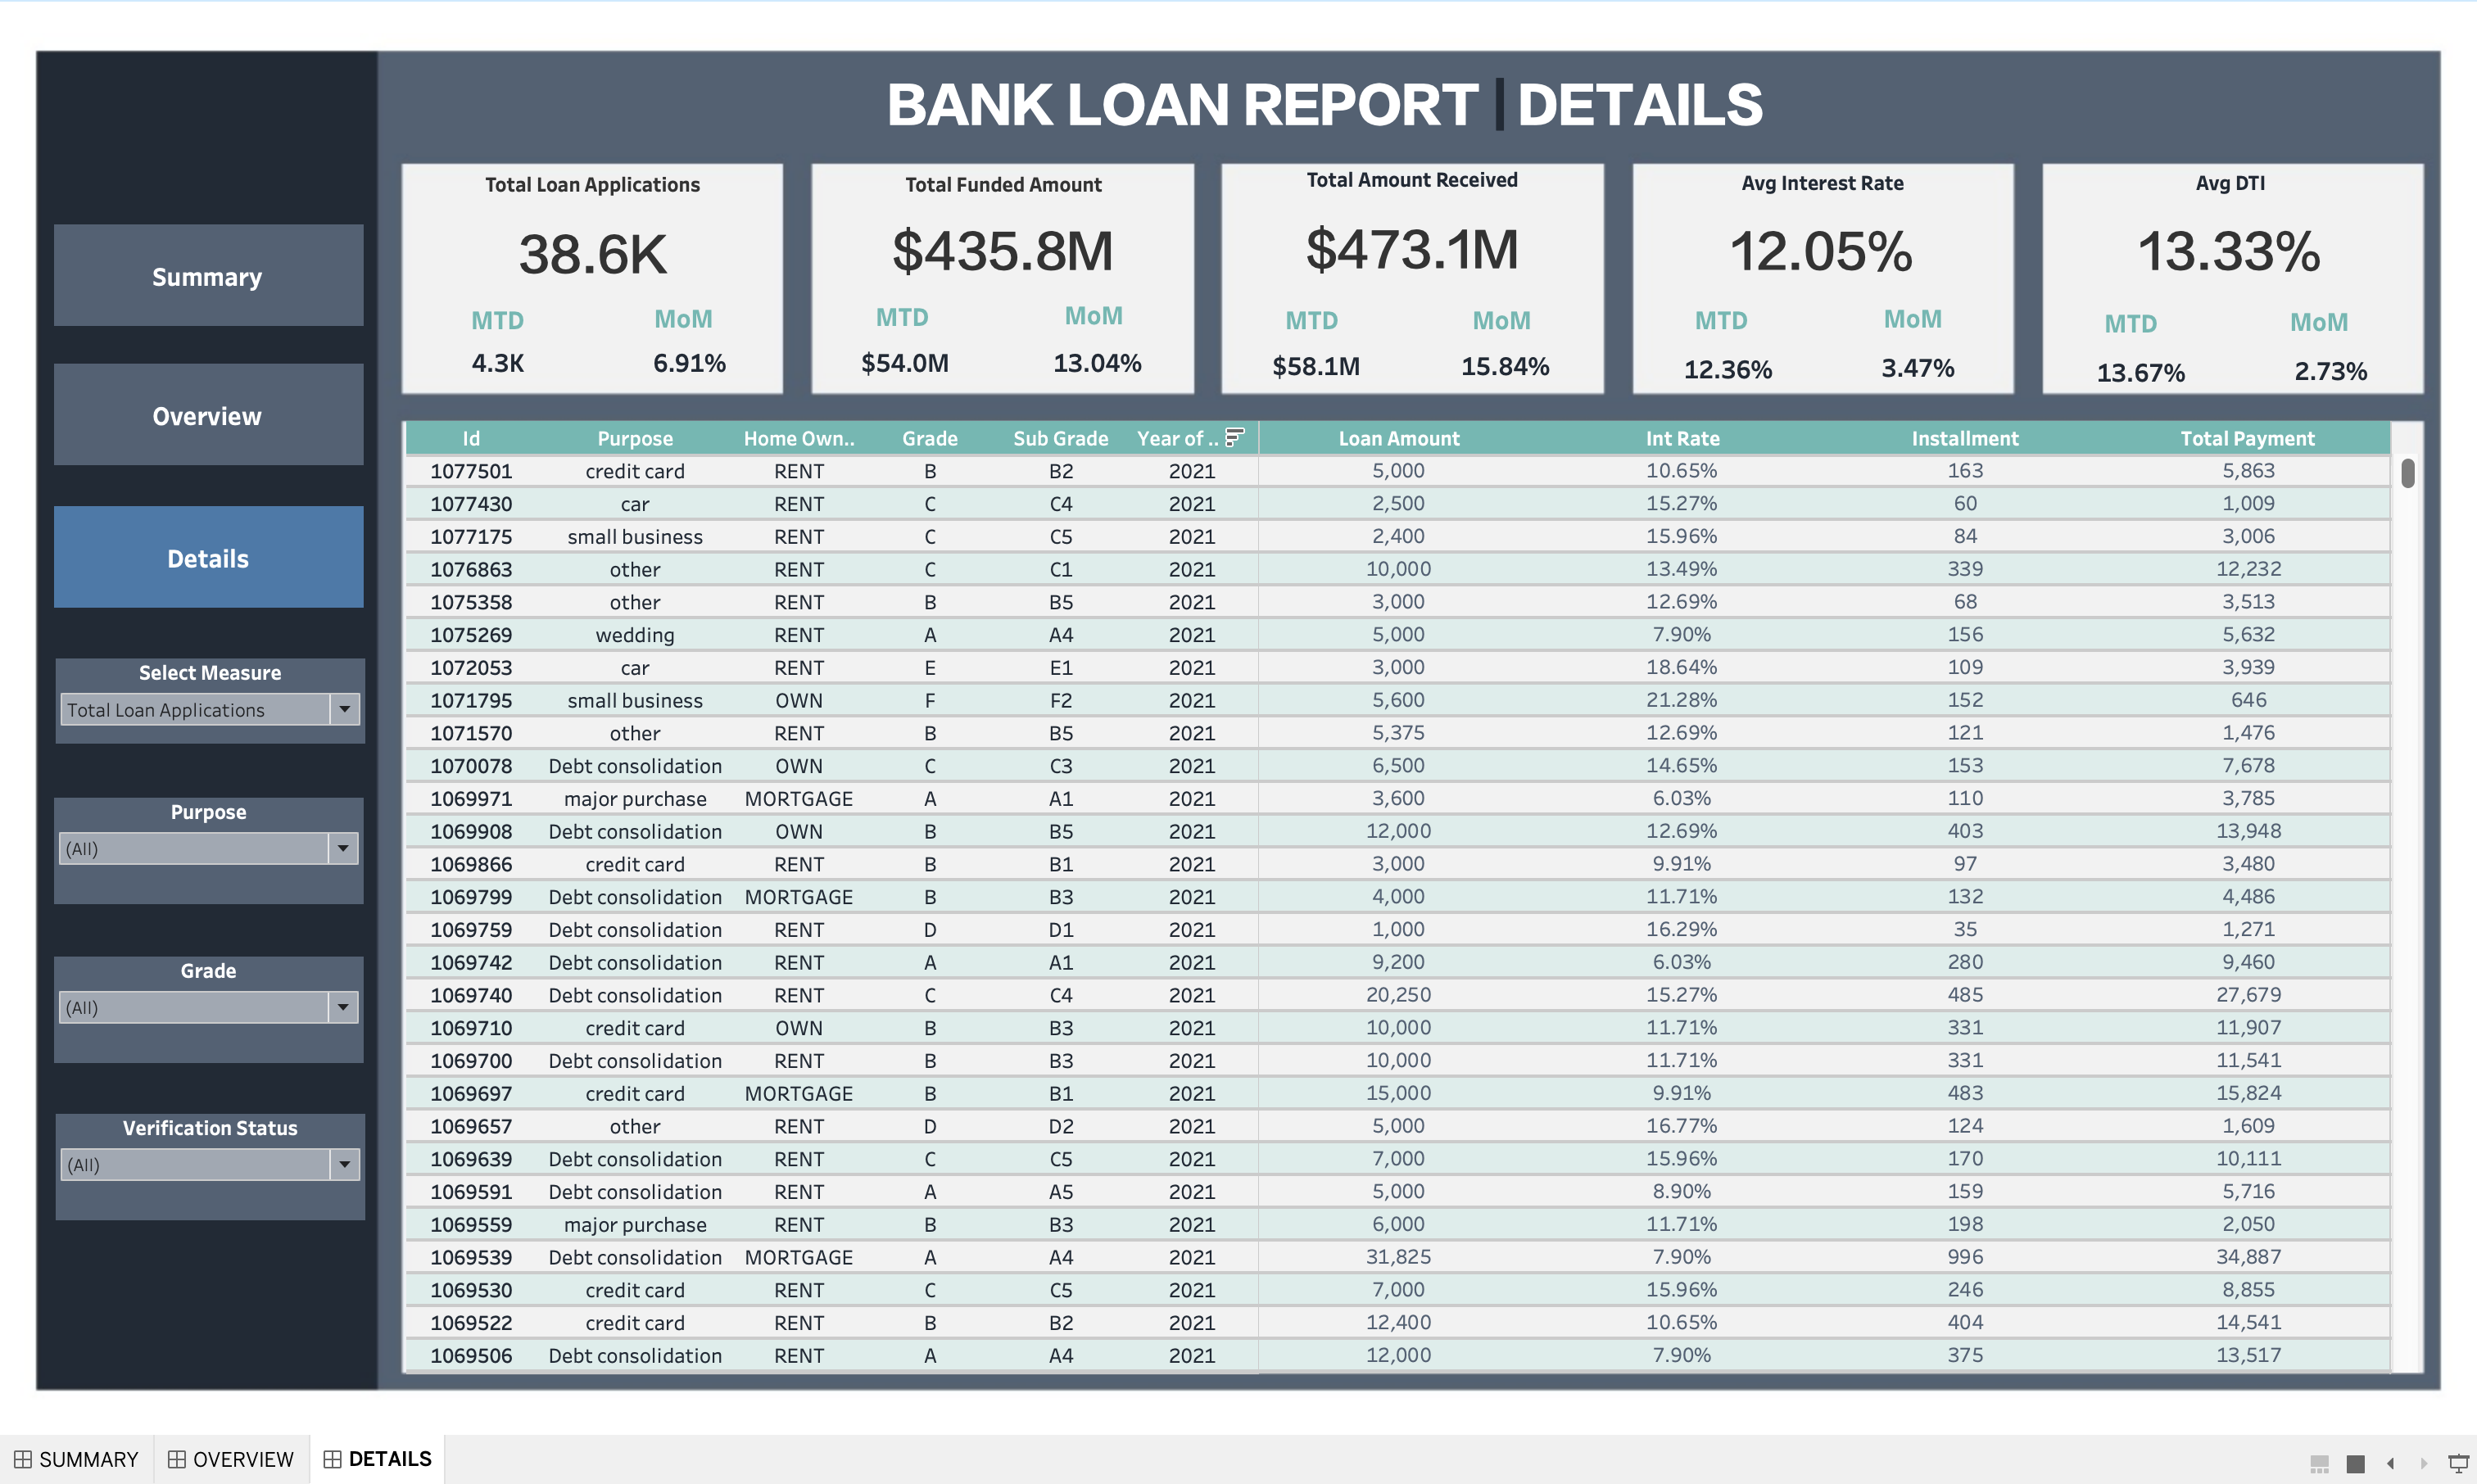

What the dashboard file says about the page in this screenshot:
{"tool":"tableau","page":{"name":"DETAILS","canvas":[1000,1000],"units":"permille","ordinal":0},"visuals":[{"type":"image","param":"/Users/gahooshao/Downloads/project - bank loan/BACKGROUND 3.jpg","box":[6.3,10.9,987.5,978.2]},{"type":"text","box":[298,36.7,474.1,72.1]},{"type":"worksheet","title":"Total Amount Received","mark":"Automatic","box":[493.3,110.2,154.3,91.2]},{"type":"worksheet","title":"Avg Interest Rate","mark":"Automatic","box":[659.4,111.6,153.5,88.4]},{"type":"worksheet","title":"Avg DTI","mark":"Automatic","box":[823.8,111.6,153.5,88.4]},{"type":"worksheet","title":"Total Loan Applications","mark":"Automatic","box":[164.3,112.9,150.9,89.8]},{"type":"worksheet","title":"Total Funded Amount","mark":"Automatic","box":[328.6,112.9,153.3,87.1]},{"type":"dashboard-object","box":[21.9,155.1,125.3,70.8]},{"type":"text","box":[328.1,202.7,72.8,34]},{"type":"text","box":[401.7,202.7,80.7,32.6]},{"type":"text","box":[163.5,204.1,75.5,34]},{"type":"text","box":[235.8,204.1,80.2,32.6]},{"type":"text","box":[493.3,204.1,72.8,34]},{"type":"text","box":[658.6,204.1,72.8,34]},{"type":"text","box":[732.2,204.1,80.7,32.6]},{"type":"text","box":[566.2,205.4,80.7,32.6]},{"type":"text","box":[823.8,206.8,72.8,34]},{"type":"text","box":[895.9,206.8,80.7,32.6]},{"type":"worksheet","title":"MTD Funded Amount","mark":"Automatic","box":[327.3,228.6,76.7,44.9]},{"type":"worksheet","title":"MTD Total Loan Applications","mark":"Automatic","box":[163.5,229.9,75.5,42.2]},{"type":"worksheet","title":"MoM Funded Amount","mark":"Automatic","box":[403.3,229.9,79.1,42.2]},{"type":"worksheet","title":"MoM Loan Applications","mark":"Automatic","box":[240.6,231.3,75.5,40.8]},{"type":"worksheet","title":"MTD Amount Received","mark":"Automatic","box":[493.3,232.7,76.7,40.8]},{"type":"worksheet","title":"MoM Amount Received","mark":"Automatic","box":[567.7,235.4,79.9,36.7]},{"type":"worksheet","title":"MTD Avg Interest Rate","mark":"Automatic","box":[658.6,238.1,77.5,35.4]},{"type":"worksheet","title":"MoM Avg Interest Rate","mark":"Automatic","box":[736.9,238.1,75.2,34]},{"type":"worksheet","title":"MTD Avg DTI","mark":"Automatic","box":[823.8,239.5,80.7,35.4]},{"type":"worksheet","title":"MoM Avg DTI","mark":"Automatic","box":[904.5,240.8,72,31.3]},{"type":"dashboard-object","box":[21.9,253.1,125.3,70.8]},{"type":"worksheet","title":"Details Tab","mark":"Automatic","rows":["id","purpose","home_ownership","grade","sub_grade","issue_date"],"box":[163.7,291.2,813.6,666.7]},{"type":"dashboard-object","box":[21.9,352.4,125.3,70.8]},{"type":"parameter","param":"[Parameters].[参数 1]","box":[22.7,458.5,125.3,59.9]},{"type":"filter","title":"Avg DTI","param":"[federated.0blpzld10ge82l11qd87n1spwplw].[none:purpose:nk]","box":[21.9,555.1,125.3,74.8]},{"type":"filter","title":"Avg DTI","param":"[federated.0blpzld10ge82l11qd87n1spwplw].[none:grade:nk]","box":[21.9,666.7,125.3,74.8]},{"type":"filter","title":"Avg DTI","param":"[federated.0blpzld10ge82l11qd87n1spwplw].[none:verification_status:nk]","box":[22.7,775.5,125.3,74.8]}]}

Visuals, with their boxes on the dashboard's canvas, which has no fixed pixel size, in thousandths of its width and height (x1, y1, x2, y2). These are canvas units, not pixel positions in the 2477x1484 screenshot, which may show the page scaled, cropped or inside an application window:
image: (x1=6, y1=11, x2=994, y2=989)
text: (x1=298, y1=37, x2=772, y2=109)
"Total Amount Received" worksheet: (x1=493, y1=110, x2=648, y2=201)
"Avg Interest Rate" worksheet: (x1=659, y1=112, x2=813, y2=200)
"Avg DTI" worksheet: (x1=824, y1=112, x2=977, y2=200)
"Total Loan Applications" worksheet: (x1=164, y1=113, x2=315, y2=203)
"Total Funded Amount" worksheet: (x1=329, y1=113, x2=482, y2=200)
dashboard-object: (x1=22, y1=155, x2=147, y2=226)
text: (x1=328, y1=203, x2=401, y2=237)
text: (x1=402, y1=203, x2=482, y2=235)
text: (x1=164, y1=204, x2=239, y2=238)
text: (x1=236, y1=204, x2=316, y2=237)
text: (x1=493, y1=204, x2=566, y2=238)
text: (x1=659, y1=204, x2=731, y2=238)
text: (x1=732, y1=204, x2=813, y2=237)
text: (x1=566, y1=205, x2=647, y2=238)
text: (x1=824, y1=207, x2=897, y2=241)
text: (x1=896, y1=207, x2=977, y2=239)
"MTD Funded Amount" worksheet: (x1=327, y1=229, x2=404, y2=274)
"MTD Total Loan Applications" worksheet: (x1=164, y1=230, x2=239, y2=272)
"MoM Funded Amount" worksheet: (x1=403, y1=230, x2=482, y2=272)
"MoM Loan Applications" worksheet: (x1=241, y1=231, x2=316, y2=272)
"MTD Amount Received" worksheet: (x1=493, y1=233, x2=570, y2=274)
"MoM Amount Received" worksheet: (x1=568, y1=235, x2=648, y2=272)
"MTD Avg Interest Rate" worksheet: (x1=659, y1=238, x2=736, y2=274)
"MoM Avg Interest Rate" worksheet: (x1=737, y1=238, x2=812, y2=272)
"MTD Avg DTI" worksheet: (x1=824, y1=240, x2=904, y2=275)
"MoM Avg DTI" worksheet: (x1=904, y1=241, x2=976, y2=272)
dashboard-object: (x1=22, y1=253, x2=147, y2=324)
"Details Tab" worksheet: (x1=164, y1=291, x2=977, y2=958)
dashboard-object: (x1=22, y1=352, x2=147, y2=423)
parameter: (x1=23, y1=458, x2=148, y2=518)
"Avg DTI" filter: (x1=22, y1=555, x2=147, y2=630)
"Avg DTI" filter: (x1=22, y1=667, x2=147, y2=742)
"Avg DTI" filter: (x1=23, y1=776, x2=148, y2=850)
